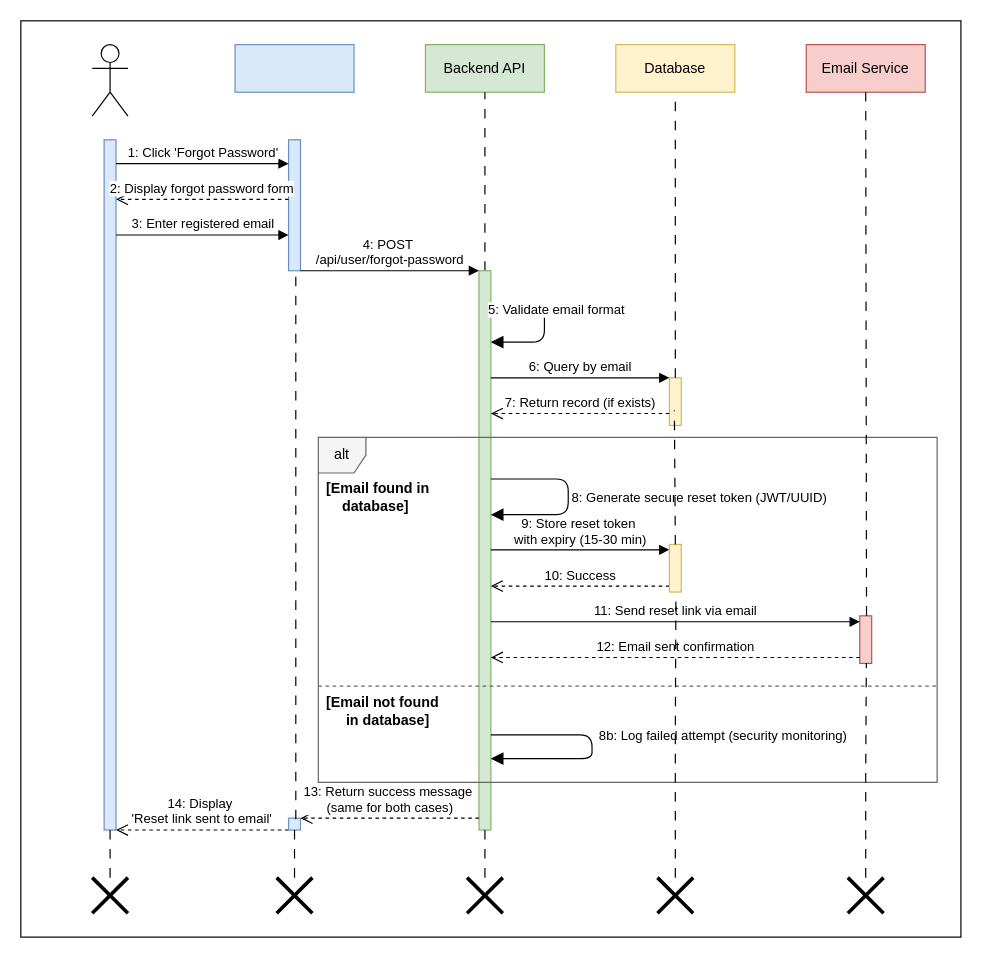
This 982x958 diagram has some shape labels left out. Here are the shapes that lost their labels. From the top down, the centre of each, then its label:
At pixel 109 79: "User".
At pixel 294 67: "Frontend UI".
